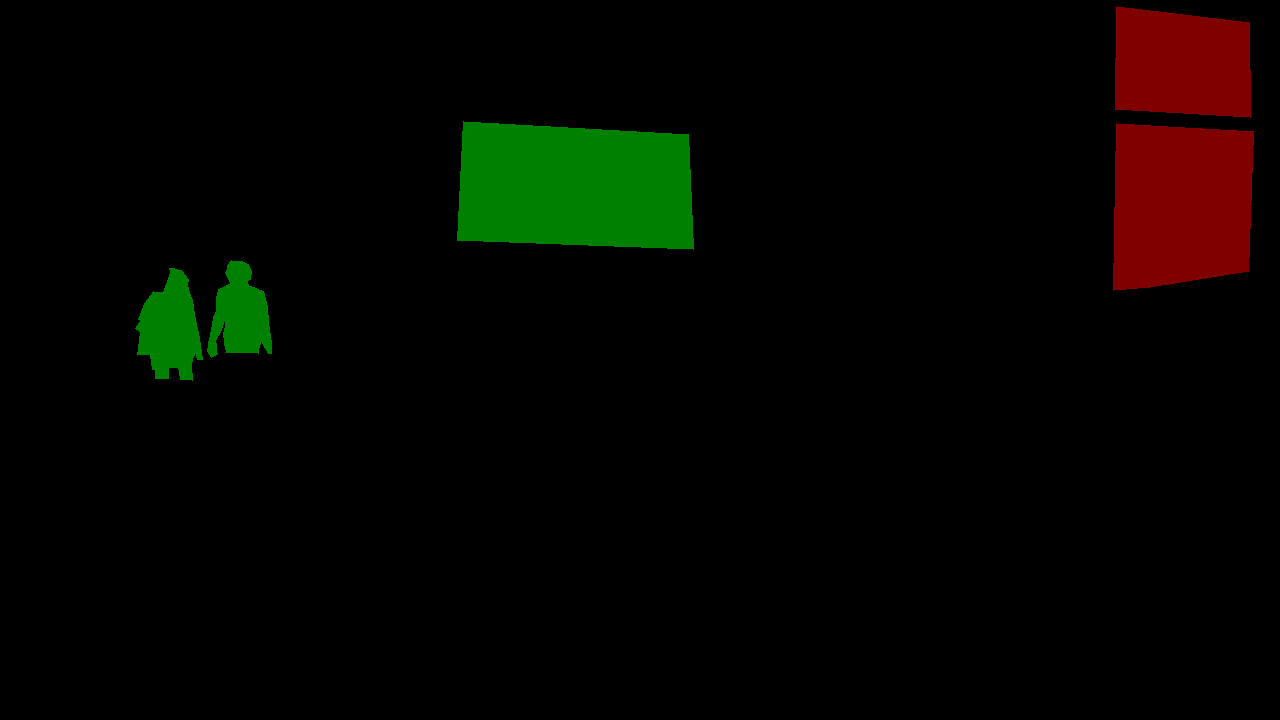person: (135, 268, 202, 380), (207, 260, 271, 357)
sign: (457, 121, 693, 249), (1113, 123, 1253, 290), (1115, 6, 1250, 117)
